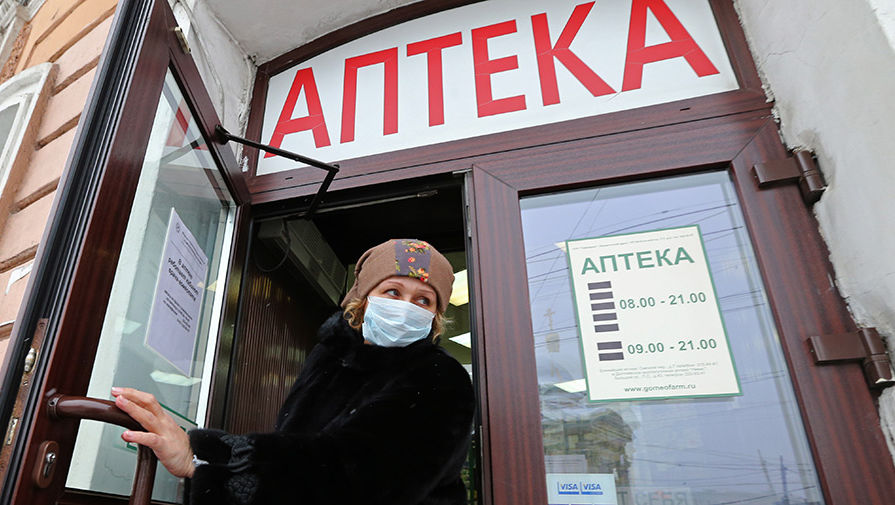mask: (362, 296, 436, 347)
